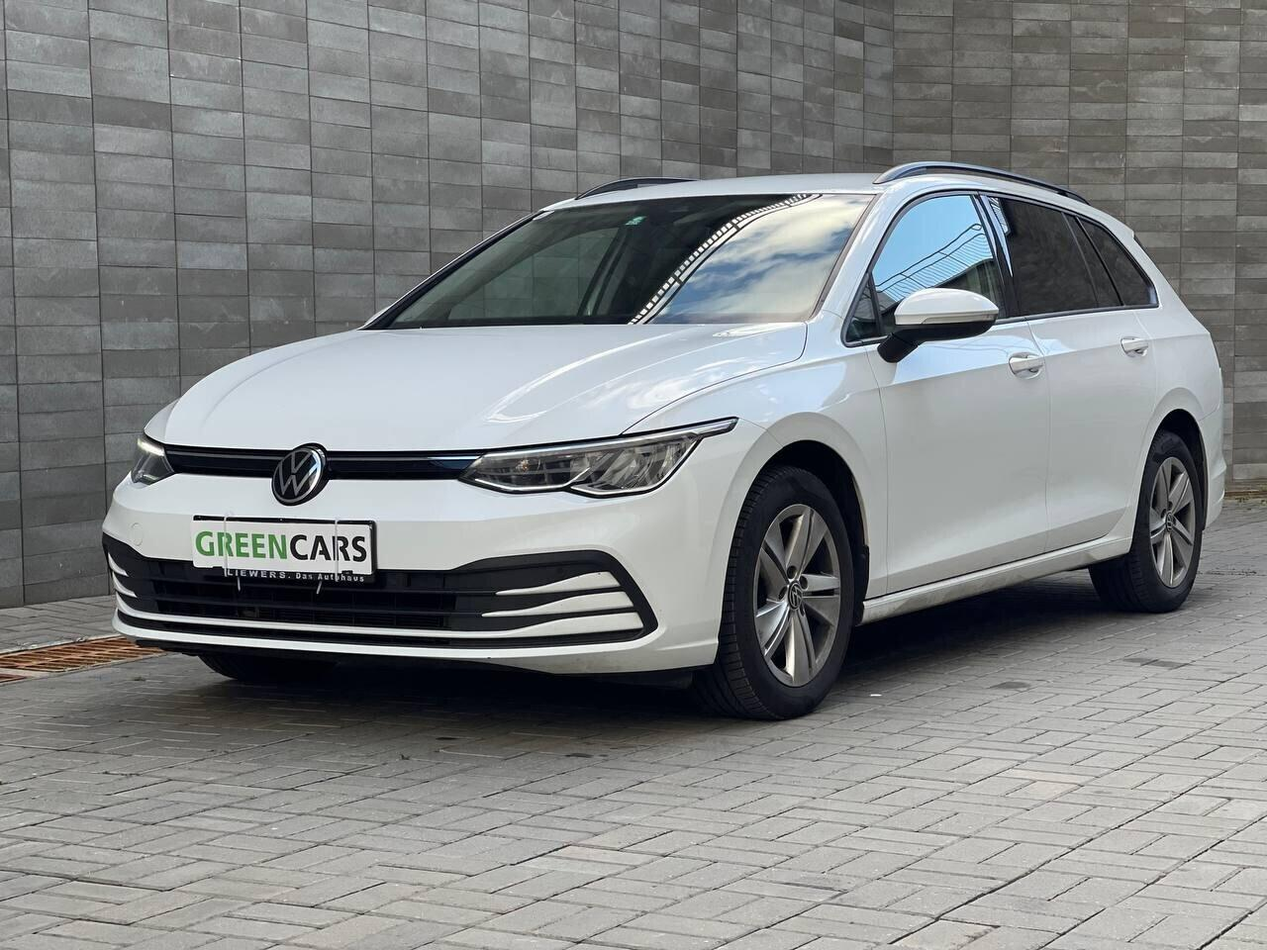Golf_2019: (103, 160, 1226, 716)
